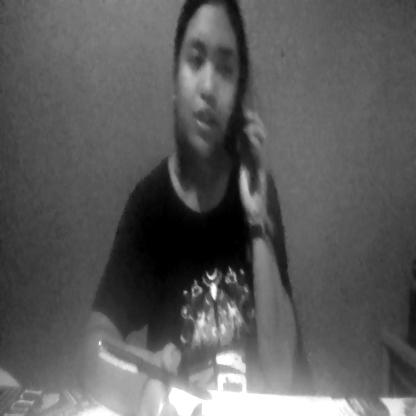Normal: (174, 0, 246, 150)
